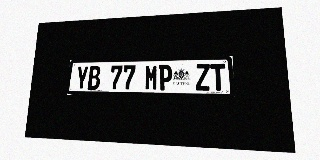7: (109, 65, 123, 90), (122, 65, 136, 90)
B: (87, 66, 101, 90)
M: (144, 65, 158, 90)
P: (158, 64, 172, 90)
T: (210, 64, 226, 91)
Y: (75, 66, 89, 90)
Z: (195, 64, 210, 91)
